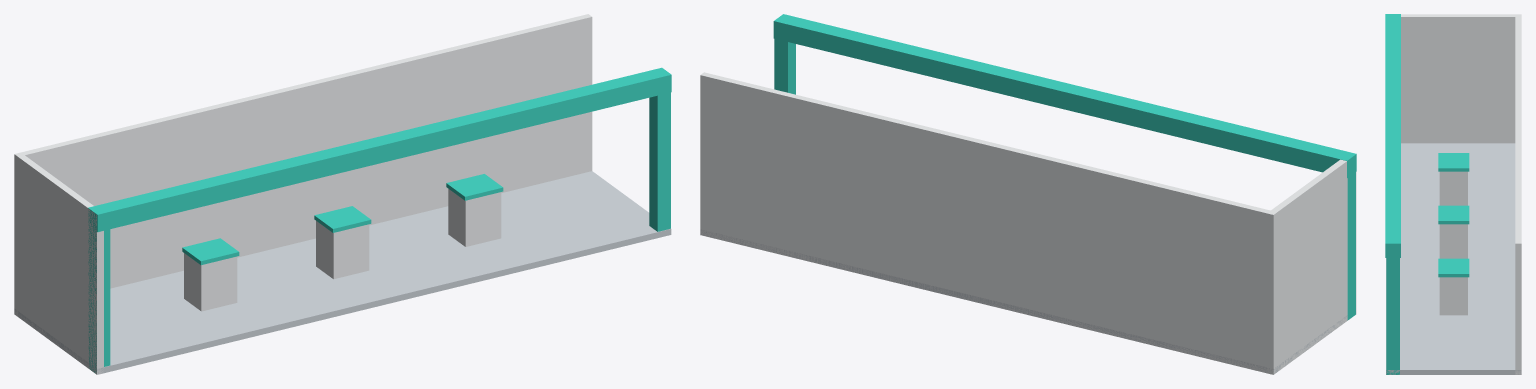
3 views of the same model, side by side, from view 1: azimuth 30°, elevation 25°; view 2: azimuth 150°, elevation 25°; view 3: azimuth 270°, elevation 25° (orthographic). The views are drawn at different scales.
Visible parts, largest first — view 1: Exhibition Booth Concept; view 2: Exhibition Booth Concept; view 3: Exhibition Booth Concept.
Part boxes in pixels (x1,y1,x2,y2): Exhibition Booth Concept: [14, 14, 671, 374]; Exhibition Booth Concept: [700, 14, 1356, 374]; Exhibition Booth Concept: [1385, 14, 1521, 374].
Size of the model in its own units: 12 by 3.2 by 3.01.
